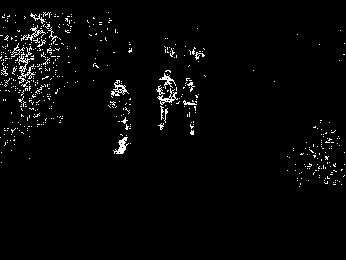person: (110, 78, 130, 155), (155, 68, 178, 131), (177, 74, 198, 136)
